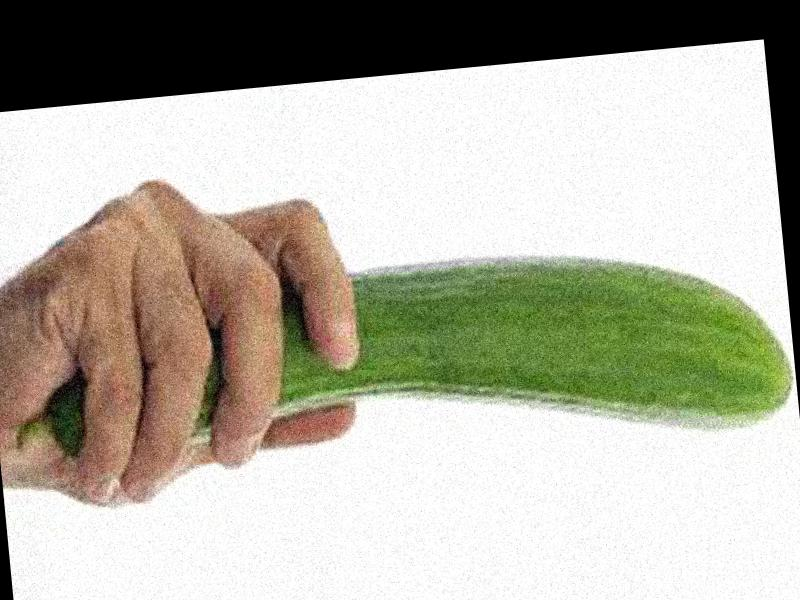Cucumber: (7, 231, 800, 499)
